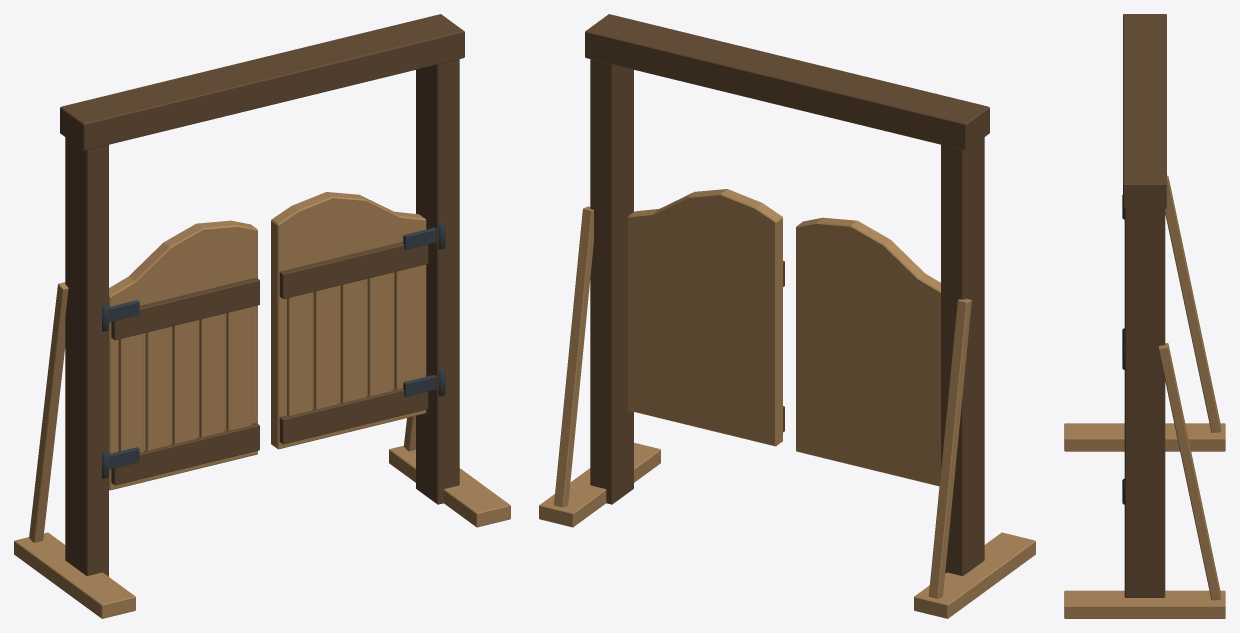
File: S002_saloon_swing_doors_rebuilt.glb
The picture shows the model from 3 angles, left to right: view 1: azimuth 30°, elevation 25°; view 2: azimuth 150°, elevation 25°; view 3: azimuth 270°, elevation 25°; orthographic projection. The views are drawn at different scales.
Visible parts, largest first — view 1: Dark_stained_structural_timber, Scenic_framing_warm_bare_timber, Dark_painted_steel; view 2: Scenic_framing_warm_bare_timber, Dark_stained_structural_timber; view 3: Dark_stained_structural_timber, Scenic_framing_warm_bare_timber, Dark_painted_steel.
Boxes of the visible parts, bbox=[...] form: Dark_stained_structural_timber: bbox=[60, 14, 464, 576]; Scenic_framing_warm_bare_timber: bbox=[14, 192, 510, 618]; Dark_painted_steel: bbox=[102, 222, 445, 478]; Scenic_framing_warm_bare_timber: bbox=[539, 189, 1035, 618]; Dark_stained_structural_timber: bbox=[585, 14, 989, 575]; Dark_stained_structural_timber: bbox=[1123, 14, 1166, 597]; Scenic_framing_warm_bare_timber: bbox=[1064, 175, 1225, 618]; Dark_painted_steel: bbox=[1122, 195, 1124, 504].
Bounding box in the file's own units: 2.36 × 2.58 × 0.88.
